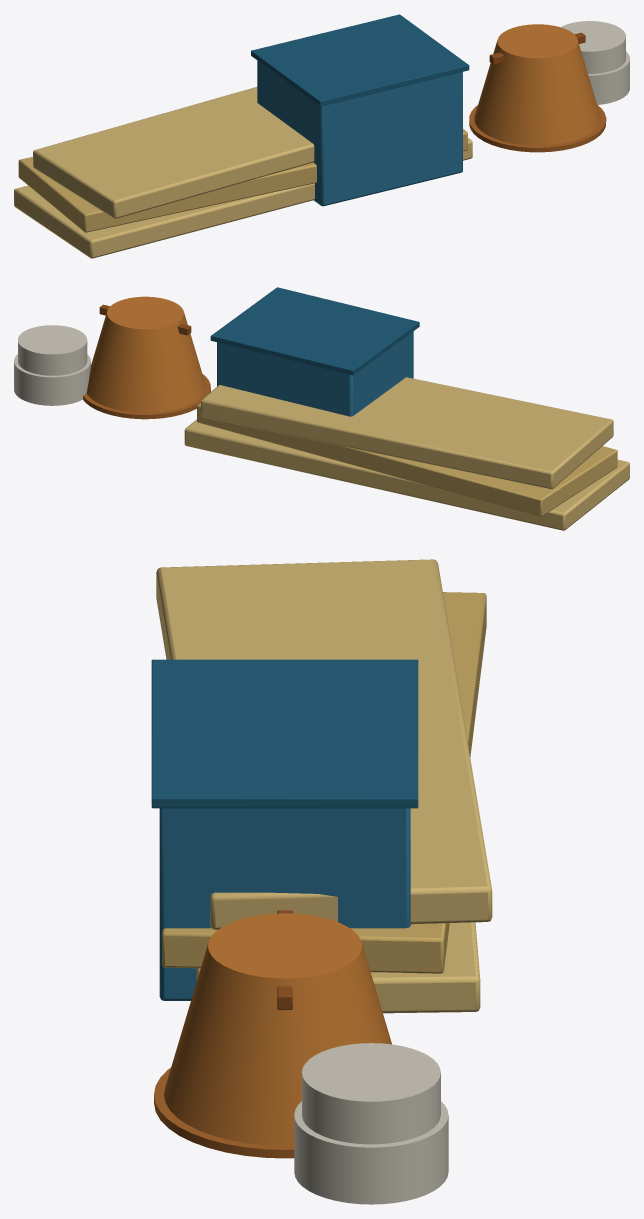
Rendered from GocKho_DoGio_Fix.glb.
3 renders of one model, top to bottom at view 1: azimuth 30°, elevation 25°; view 2: azimuth 150°, elevation 25°; view 3: azimuth 270°, elevation 25°, orthographic. The views are drawn at different scales.
Parts seen in each view (by area): view 1: GocKho_DoGio_Fix; view 2: GocKho_DoGio_Fix; view 3: GocKho_DoGio_Fix.
Boxes of the visible parts, left/top/right/bottom form: GocKho_DoGio_Fix: left=14, top=14, right=629, bottom=258; GocKho_DoGio_Fix: left=14, top=287, right=629, bottom=530; GocKho_DoGio_Fix: left=151, top=559, right=492, bottom=1204.
Bounding box in the file's own units: 1.66 × 0.293 × 0.434.
